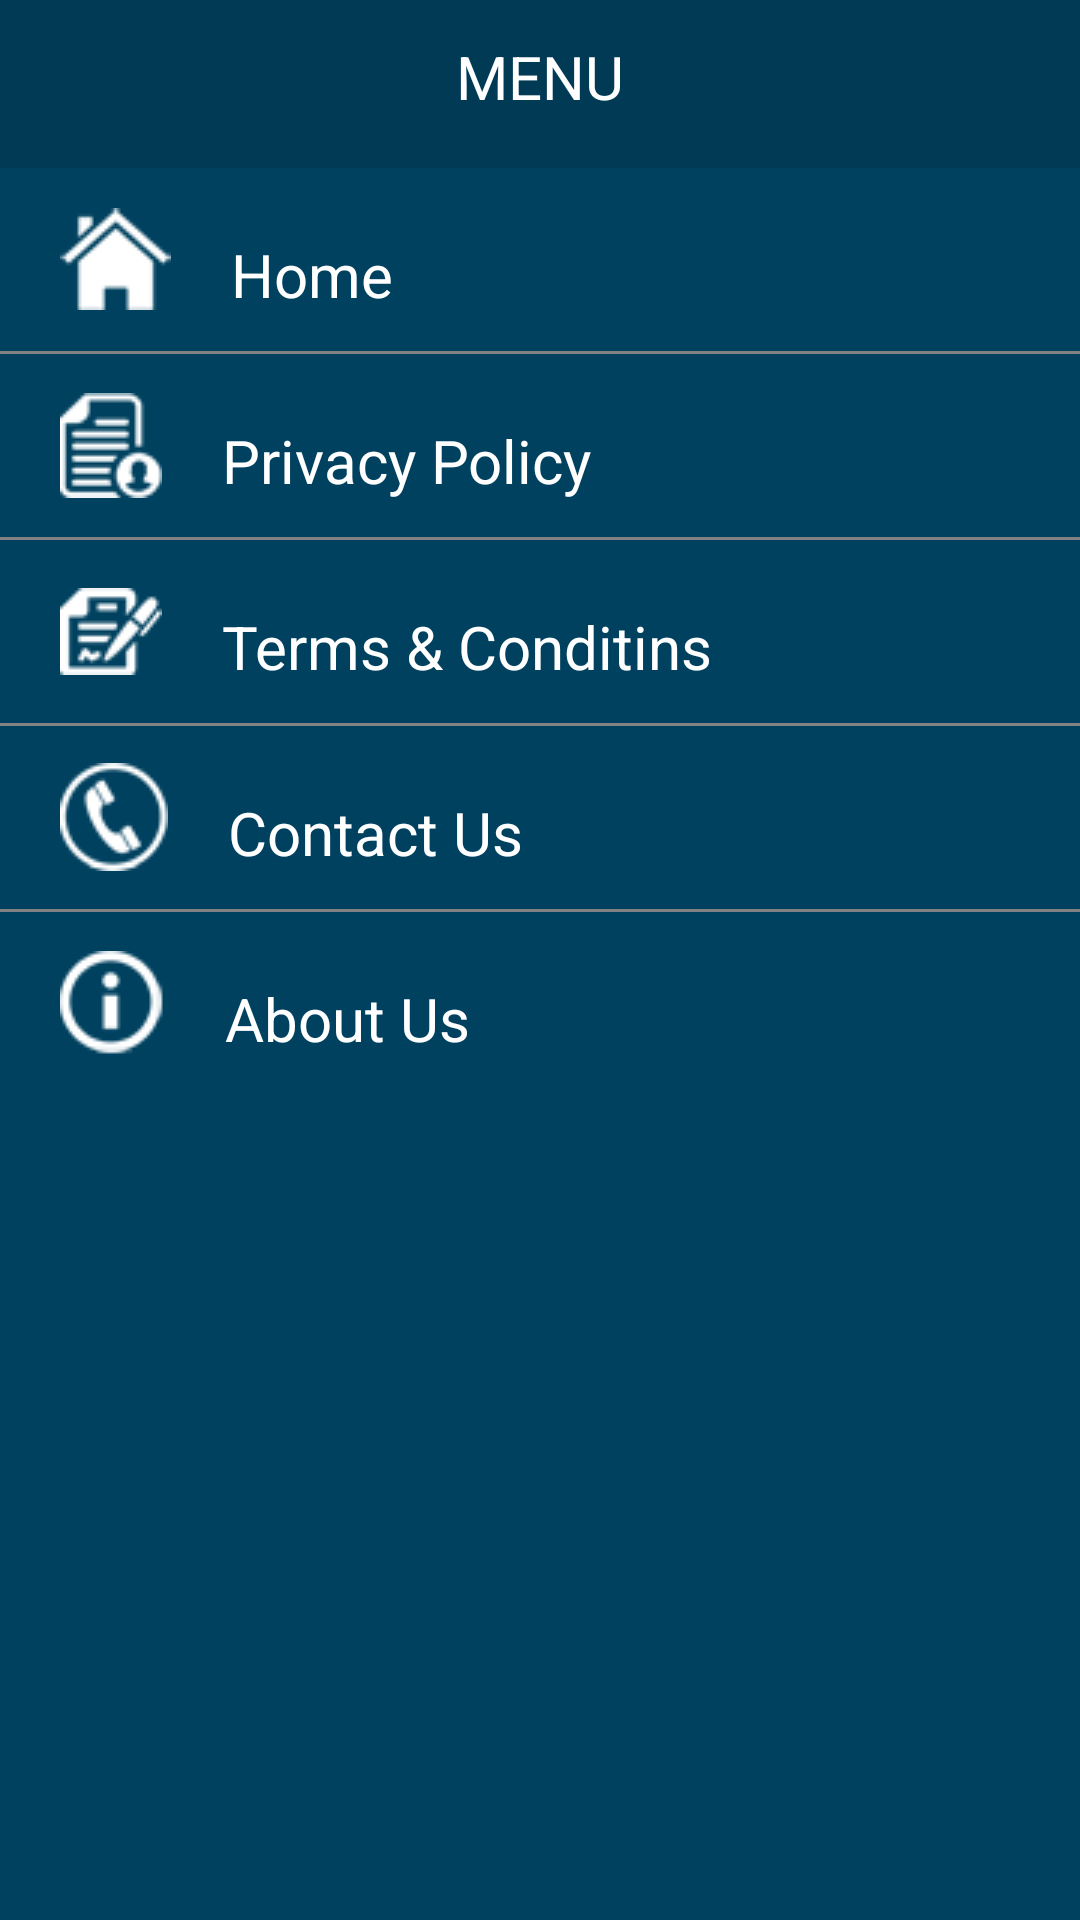

Icon click points for this 1080px×1920px phone screenshot, format [x,y]:
terms condition: [111,631]
